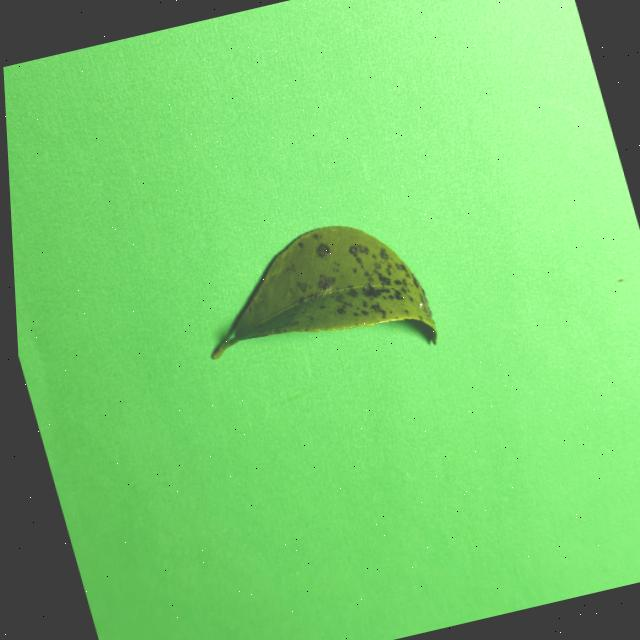sooty_mold: (212, 225, 436, 357)
